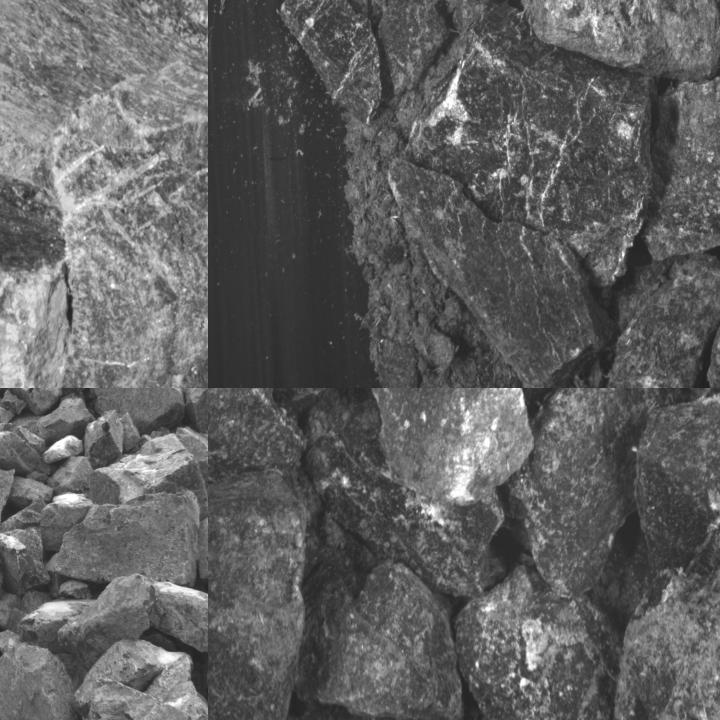stone: (0, 0, 207, 384), (0, 62, 207, 387), (396, 34, 656, 292), (385, 158, 619, 387), (307, 388, 505, 600), (498, 388, 696, 599), (208, 388, 309, 719), (455, 549, 624, 719), (296, 562, 465, 719), (637, 388, 719, 642), (369, 388, 533, 508), (515, 0, 719, 79), (641, 69, 719, 264), (46, 488, 198, 586), (605, 259, 719, 387), (280, 0, 381, 123), (89, 433, 207, 519), (61, 575, 156, 674), (379, 0, 449, 100), (0, 645, 74, 719), (79, 676, 204, 719), (90, 388, 186, 435), (151, 580, 207, 656), (41, 492, 92, 554), (0, 533, 49, 593), (37, 392, 91, 442), (81, 410, 125, 467), (0, 430, 41, 473), (49, 453, 90, 496), (7, 388, 65, 417), (194, 487, 207, 583), (0, 459, 16, 536), (179, 388, 207, 431), (11, 477, 53, 503), (0, 405, 16, 441), (204, 602, 207, 702)
